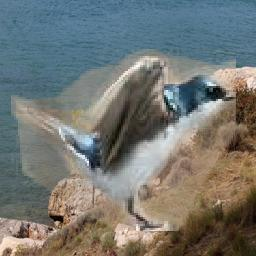Swallow: (12, 49, 237, 231)
